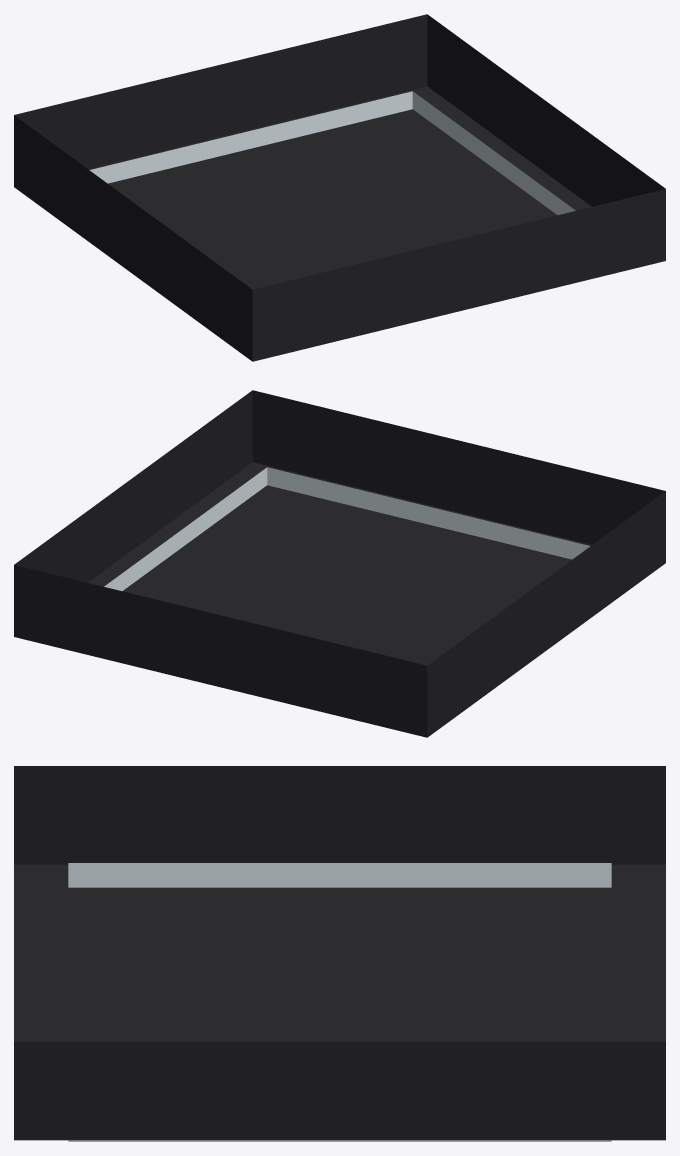
File: ceiling_light.gltf
3 views of the same model, one above another, from view 1: azimuth 30°, elevation 25°; view 2: azimuth 150°, elevation 25°; view 3: azimuth 270°, elevation 25° (orthographic). The views are drawn at different scales.
Parts seen in each view (by area): view 1: holder, bulb; view 2: holder, bulb; view 3: holder, bulb.
Part boxes in pixels (<box>): holder: <box>14,14,665,361</box>; bulb: <box>89,91,575,214</box>; holder: <box>14,390,665,737</box>; bulb: <box>104,467,590,590</box>; holder: <box>14,766,665,1140</box>; bulb: <box>68,863,611,1141</box>.
Size of the model in its own units: 0.75 by 0.1562 by 0.75.
